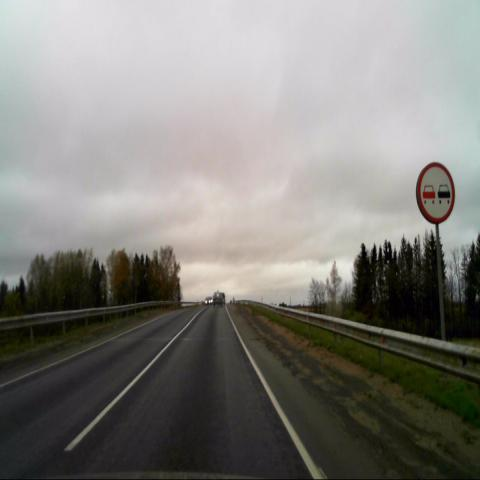3_20: (416, 161, 456, 224)
